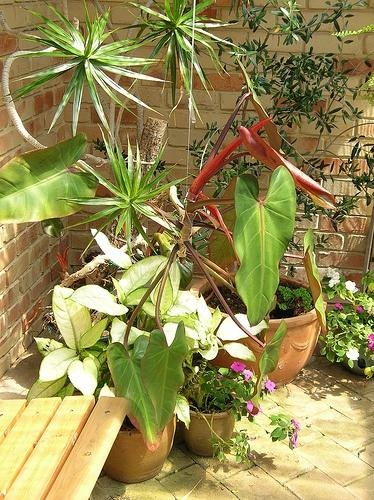pottedplant: (188, 2, 327, 394), (37, 287, 186, 486), (181, 362, 302, 458)
